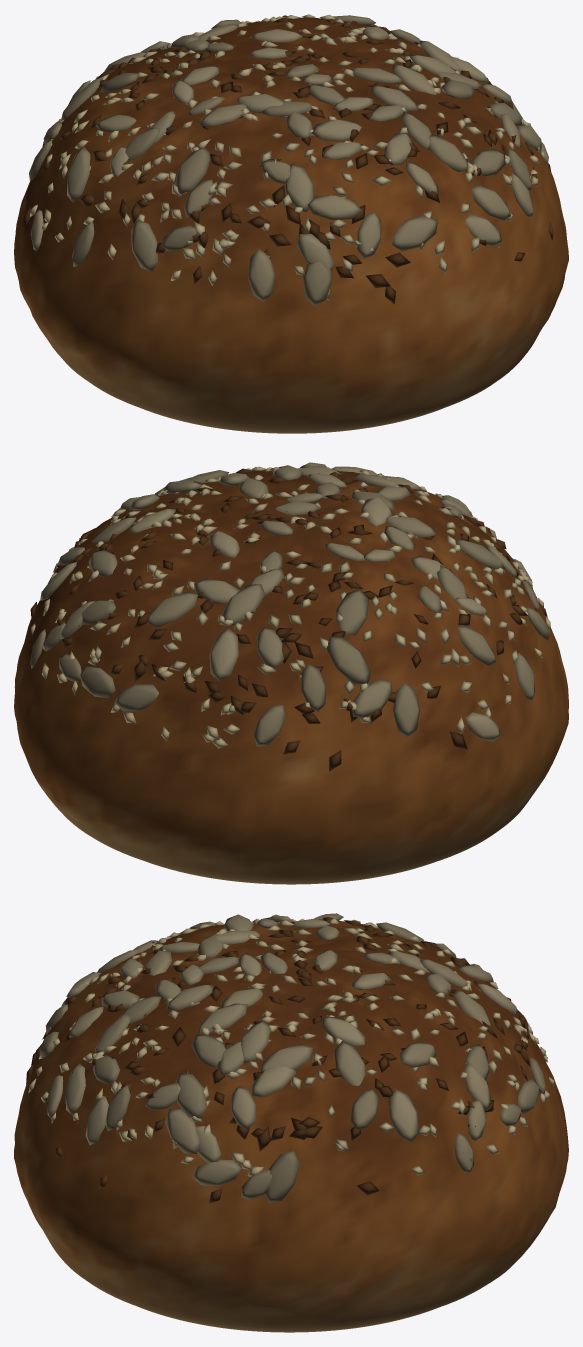
Rendered from koernerweck.glb.
3 renders of one model, top to bottom at view 1: azimuth 30°, elevation 25°; view 2: azimuth 150°, elevation 25°; view 3: azimuth 270°, elevation 25°, orthographic.
Parts seen in each view (by area): view 1: koernerweck; view 2: koernerweck; view 3: koernerweck.
Boxes of the visible parts, x1,y1,x2,y2 form: koernerweck: (14,14,568,433); koernerweck: (14,462,568,884); koernerweck: (14,913,568,1332).
Size of the model in its own units: 0.1 by 0.056 by 0.1.
